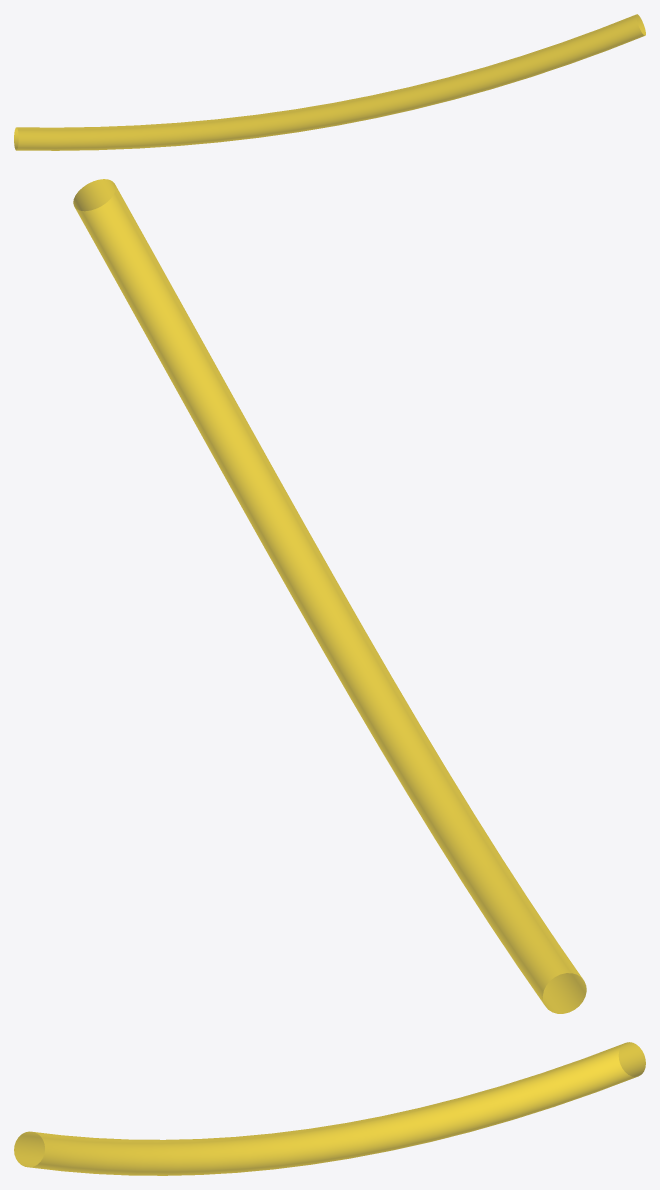
File: Event_100608114_track_57.fbx
The picture shows the model from 3 angles, top to bottom: view 1: azimuth 30°, elevation 25°; view 2: azimuth 150°, elevation 25°; view 3: azimuth 270°, elevation 25°; orthographic projection. The views are drawn at different scales.
Visible parts, largest first — view 1: Model; view 2: Model; view 3: Model.
Boxes of the visible parts, x1,y1,x2,y2 form: Model: [14, 14, 645, 150]; Model: [73, 179, 586, 1013]; Model: [14, 1042, 645, 1175].
Bounding box in the file's own units: 0.8783 × 0.3254 × 0.7013.
